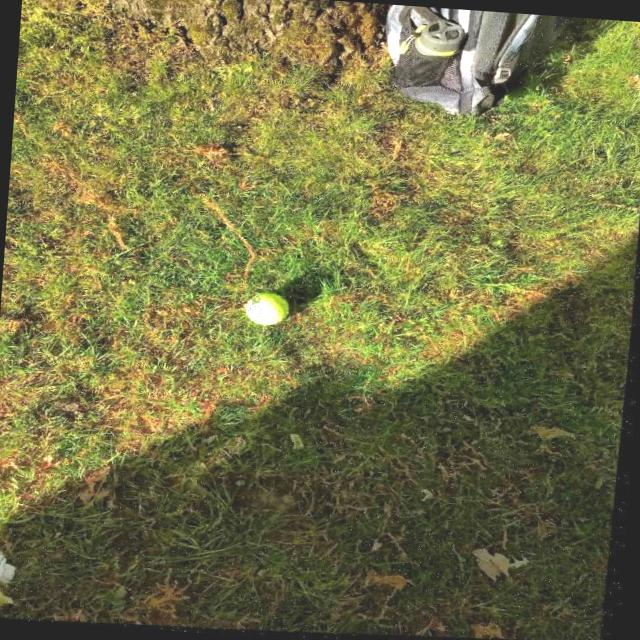Tennis Ball: (240, 288, 297, 338)
